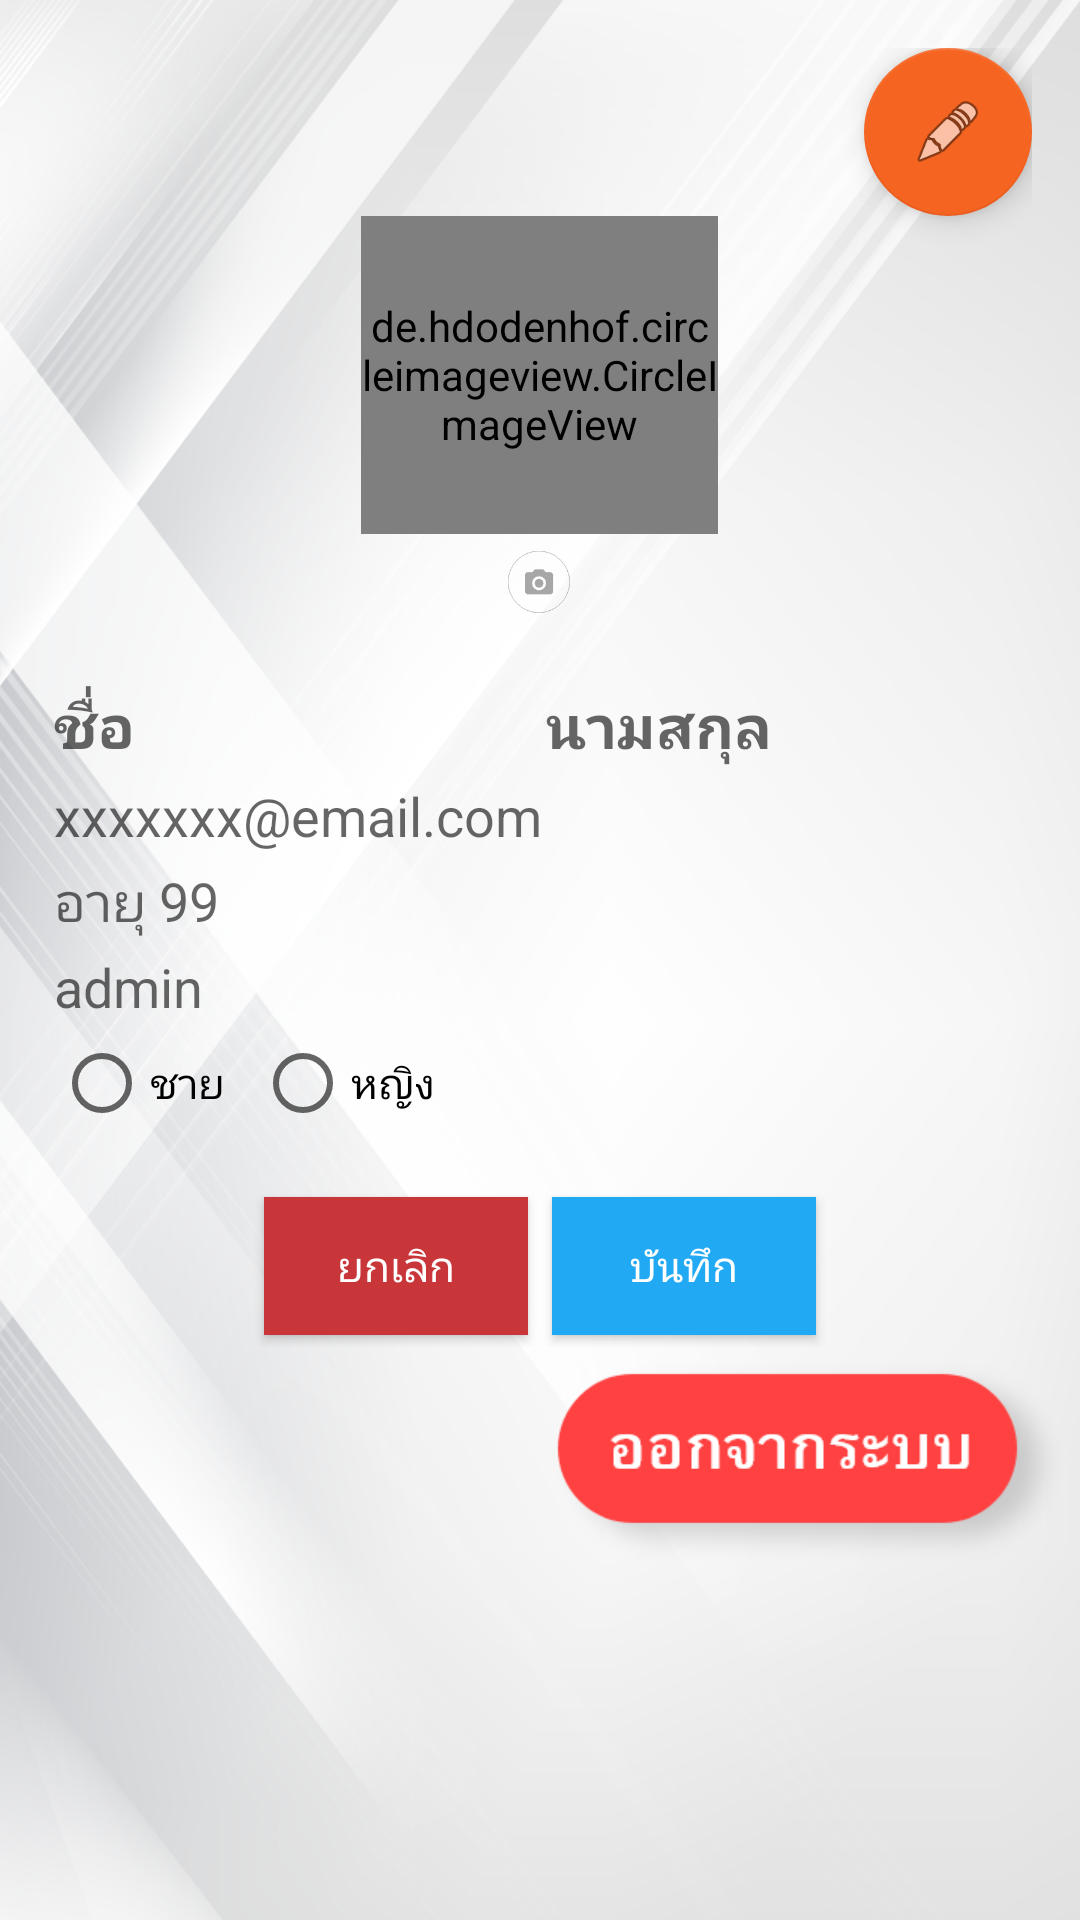

Icon bounding boxes for this 1080 × 1920 phone screenshot, format bbox=(x1, y1, x2, y2):
camera: bbox=(508, 551, 570, 613)
edit: bbox=(864, 48, 1032, 216)
